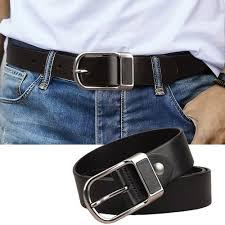belt: (75, 128, 212, 222), (0, 36, 210, 87)
